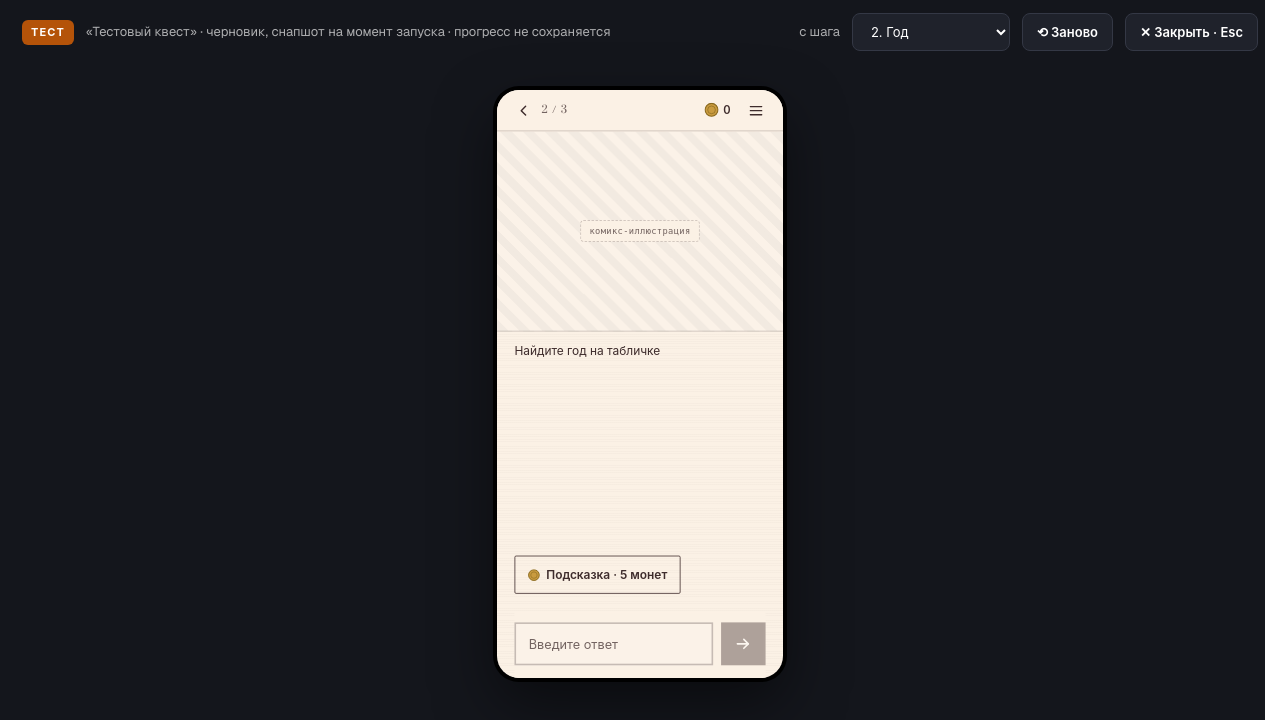
конструкторский тест-игрок: подсказка › каждая ошибка показывает И инлайн-ошибку, И попап (как в плеере)
Type "1700" into the field with placeholder "Введите ответ" at (614, 644), box [514,622,713,665]
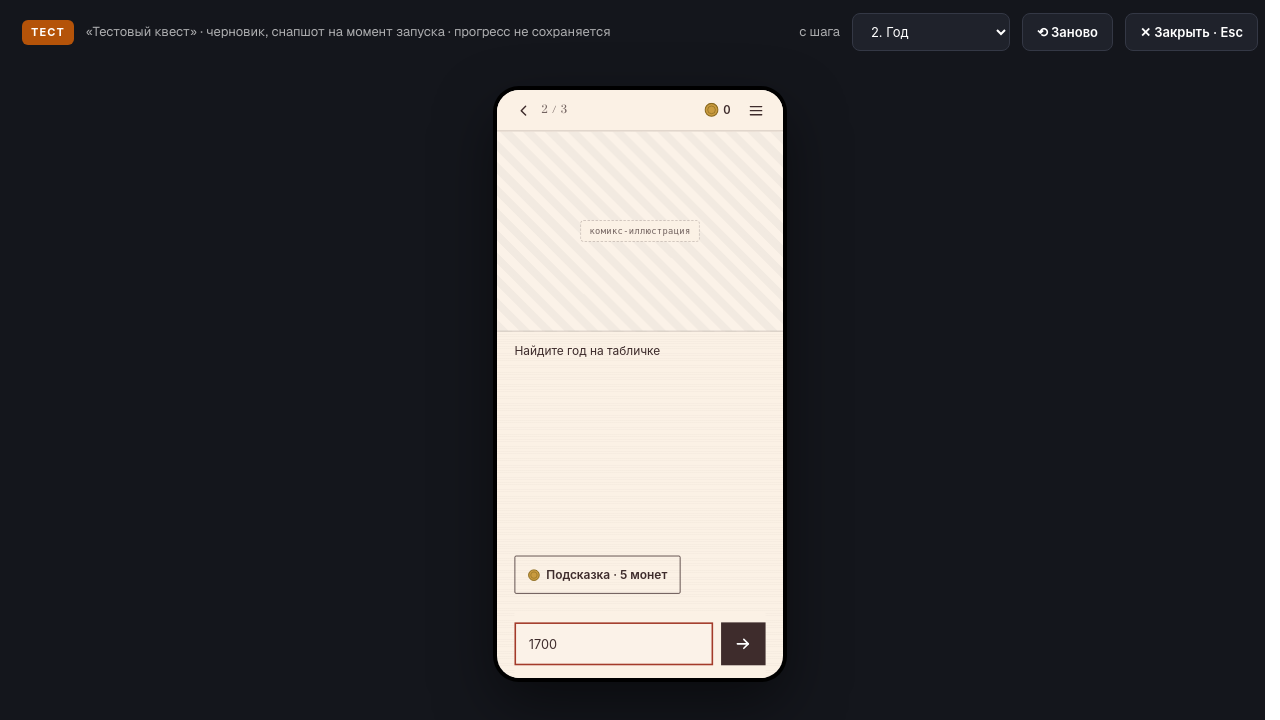
Click the button named "Ответить" at (743, 644), box [721,622,766,665]
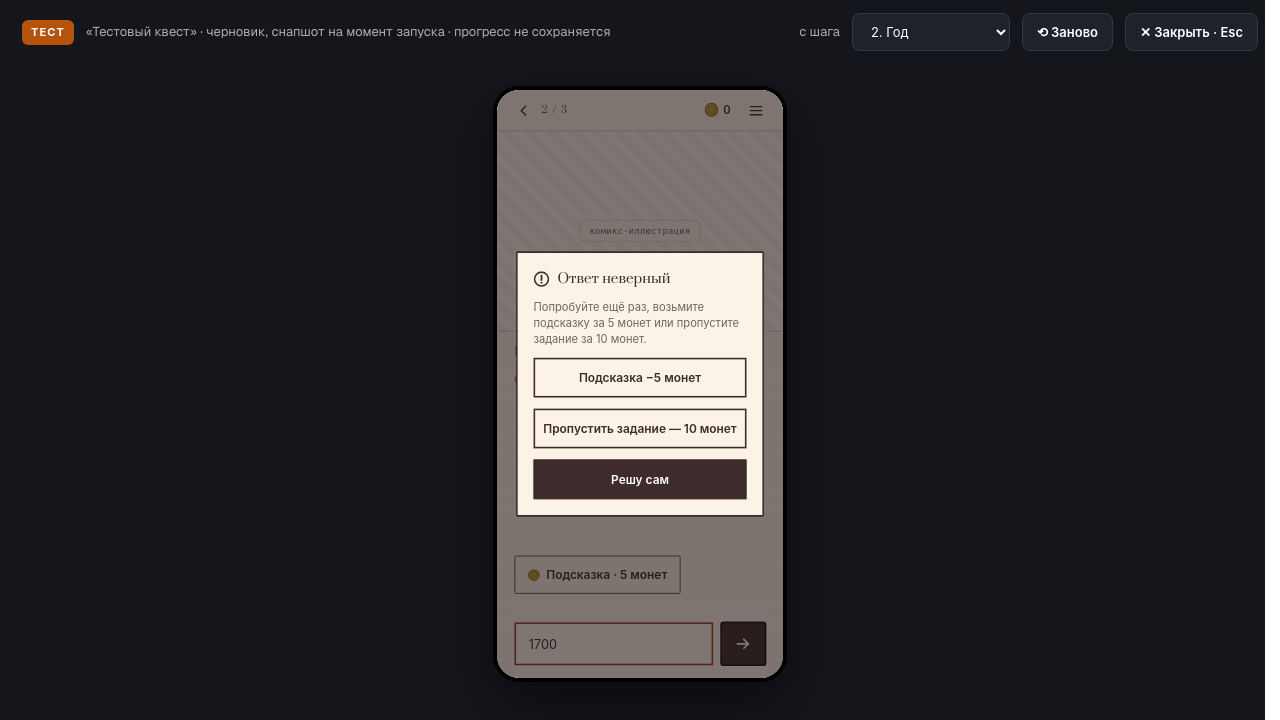
Expected: the text "Ответ неверный" is shown, [534,269,670,288]
Expected: the text "Неверно. Попробуйте ещё раз." is shown, [514,372,696,385]
Click the button "Решу сам" at (640, 480), box [534,460,746,500]
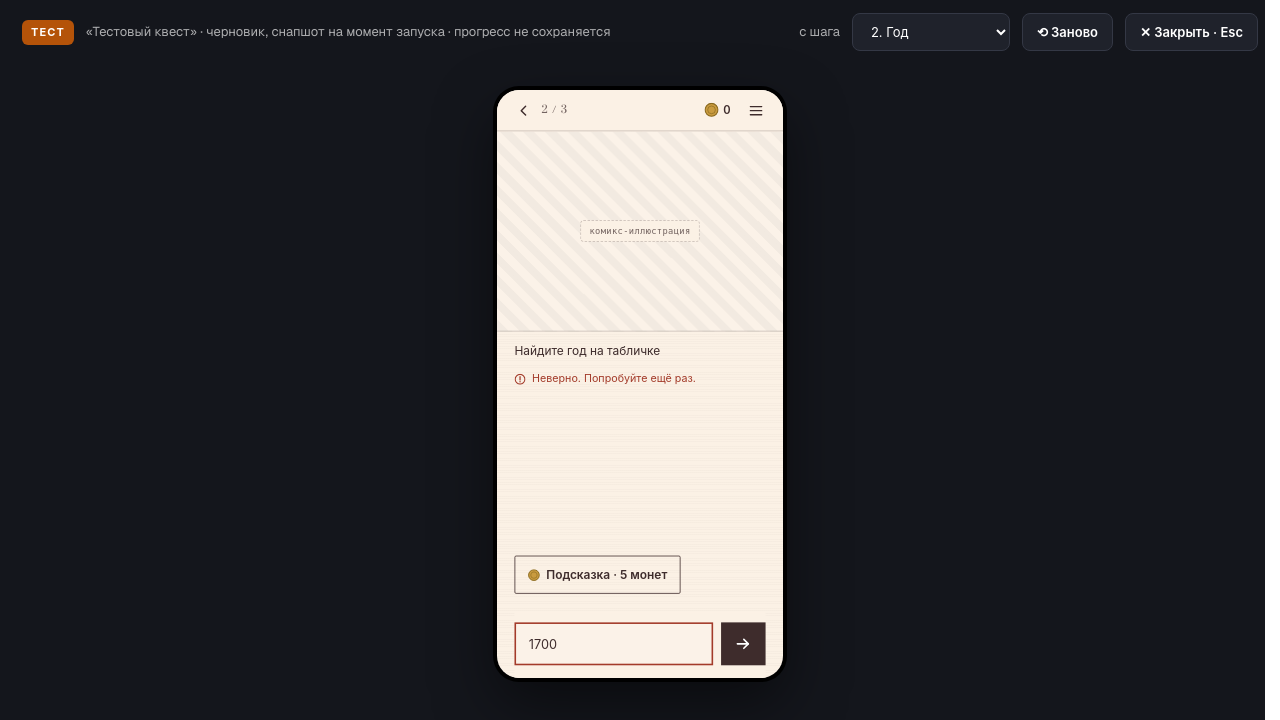
Expected: the text "Ответ неверный" is gone
Replace the text in the field with placeholder "Введите ответ" with "1701" at (614, 644), box [514,622,713,665]
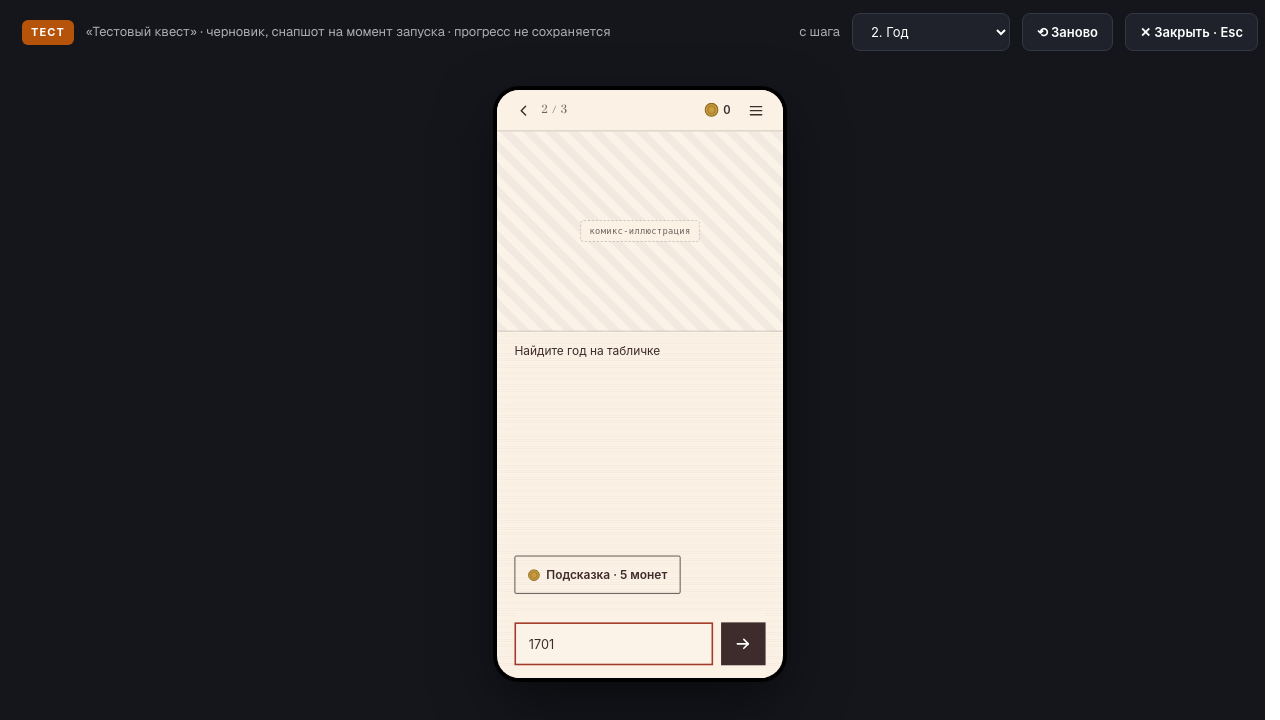
Click the button named "Ответить" at (743, 644), box [721,622,766,665]
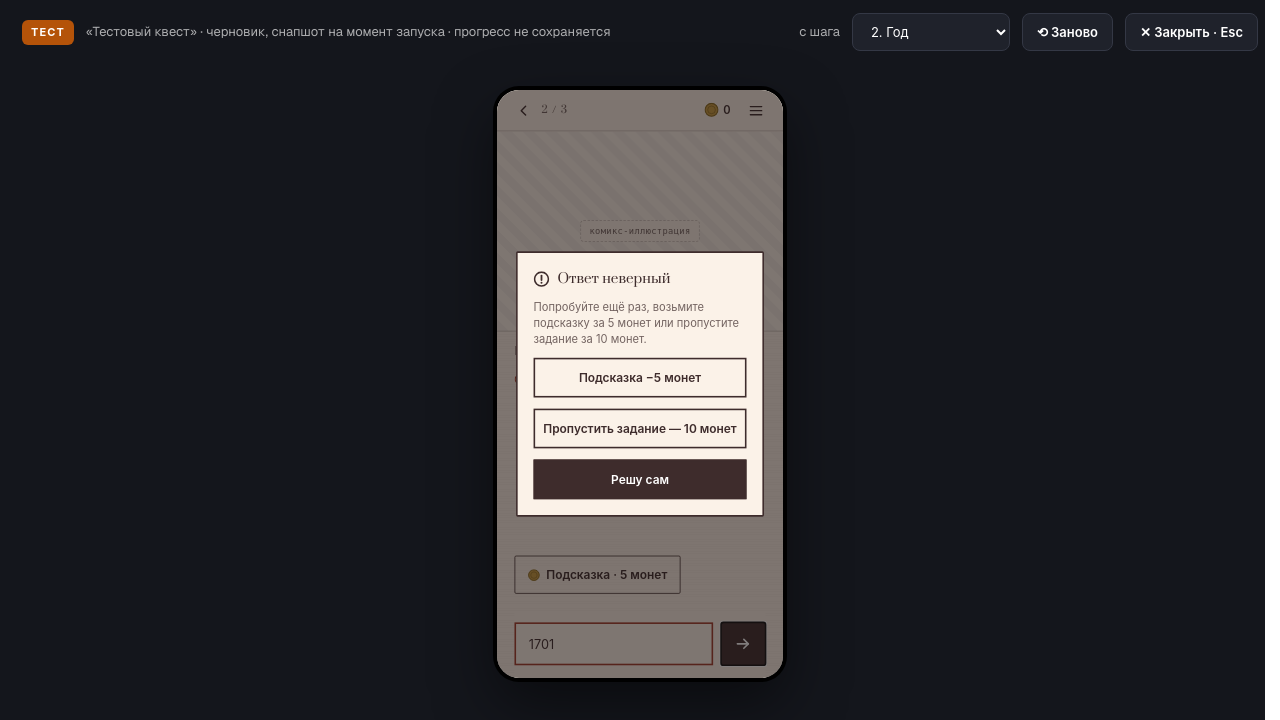
Expected: the text "Ответ неверный" is shown, [534,269,670,288]
Expected: the text "Неверно. Попробуйте ещё раз." is shown, [514,372,696,385]
